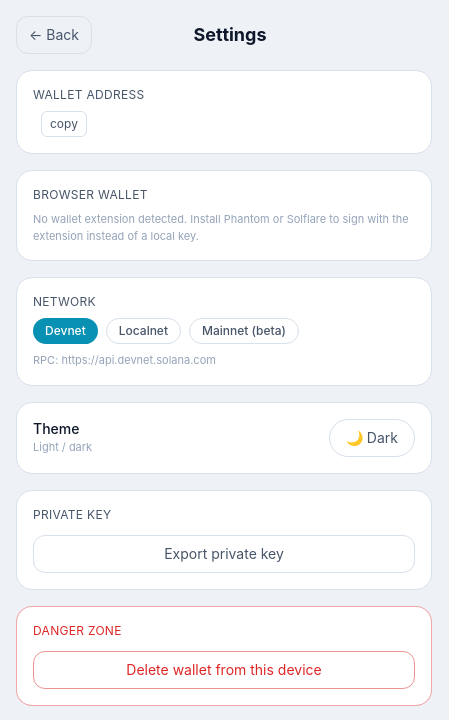
Settings › export key reveals secret after click
The image size is (449, 720).
Click the button "Export private key". click: (224, 554)
box: [33,534,415,572]
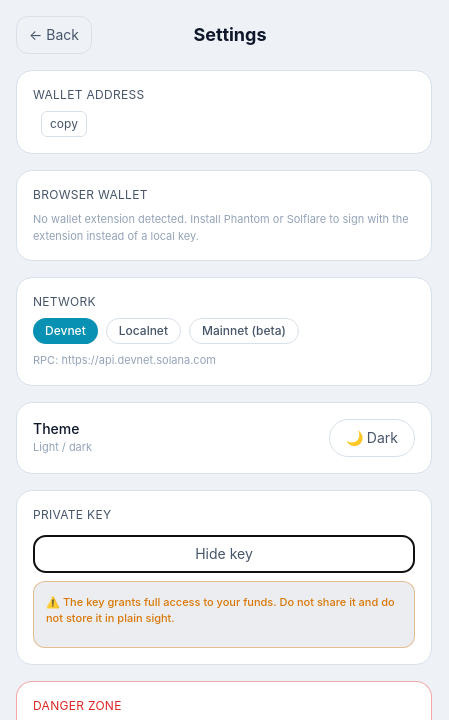
Check: the text "full access to your funds" is shown, box [46,594,395,625]
